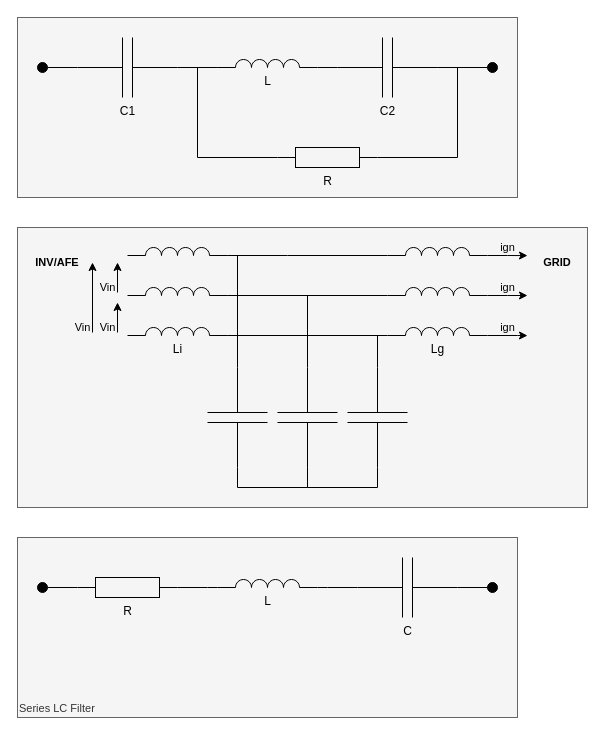
Some shapes in this 605 by 735 pixel diagram are drawn without their labels. Each missing label, with the box of its shape:
C-Type Passive Filter - CTPF: (16, 16, 518, 198)
Cf: (346, 366, 408, 468)
LCL Filter: (16, 226, 588, 508)
